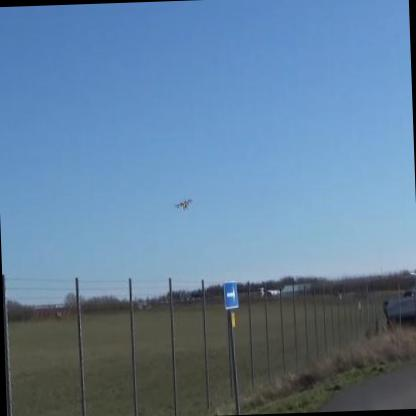plane: (170, 194, 197, 214)
